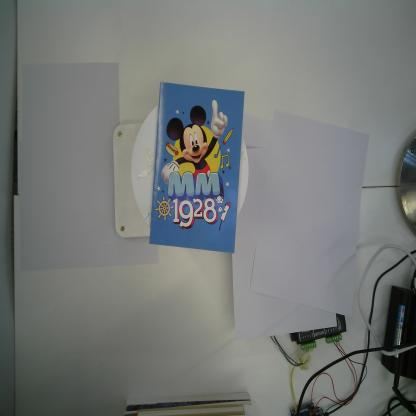Stationery: (148, 81, 244, 255)
